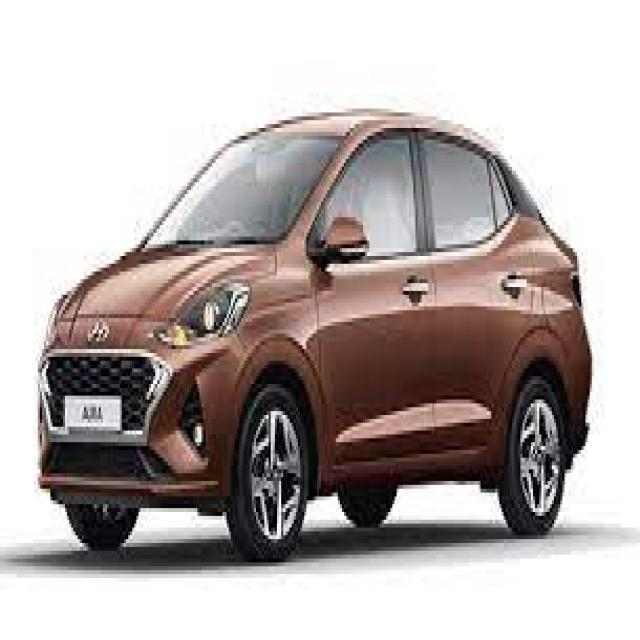car: (27, 100, 600, 558)
